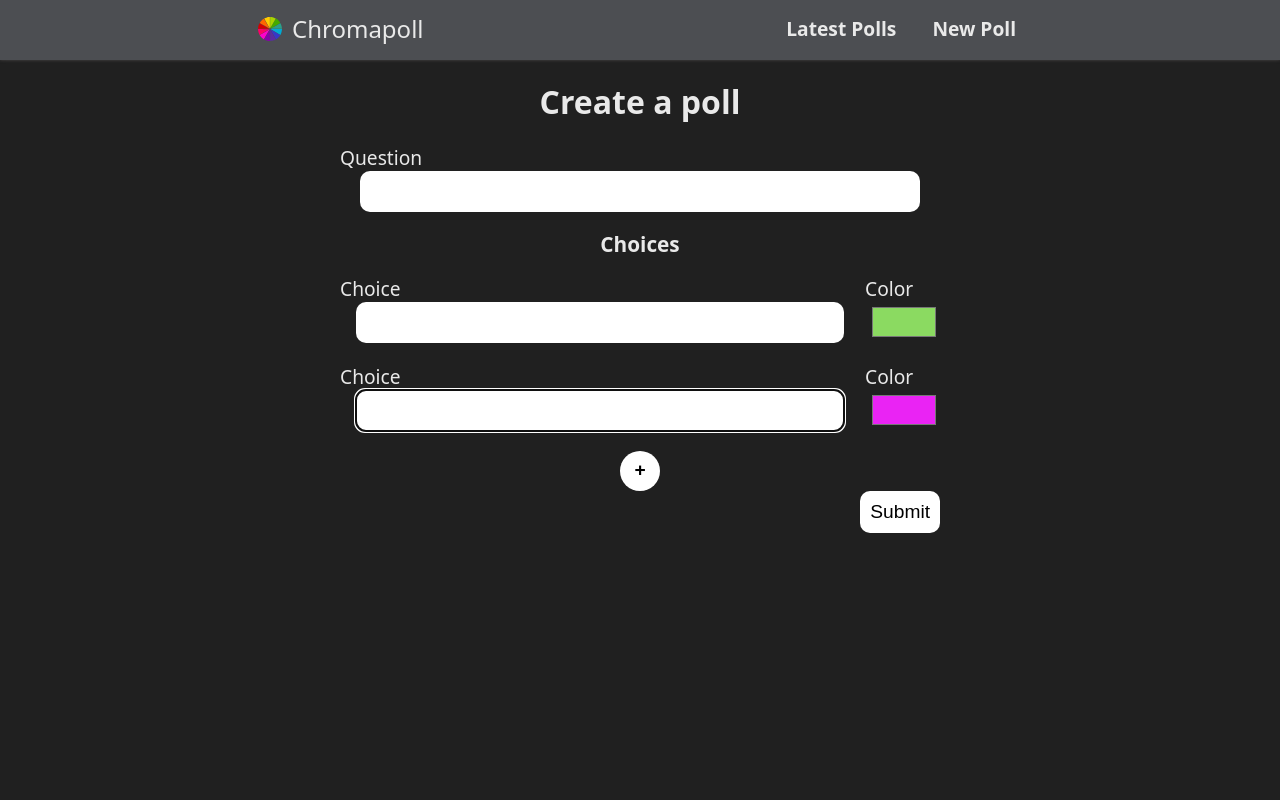
it: poll creation › does not work with missing choice name
In the field with id "choice0Name": (600, 323) [356,302,844,343], type "option a"
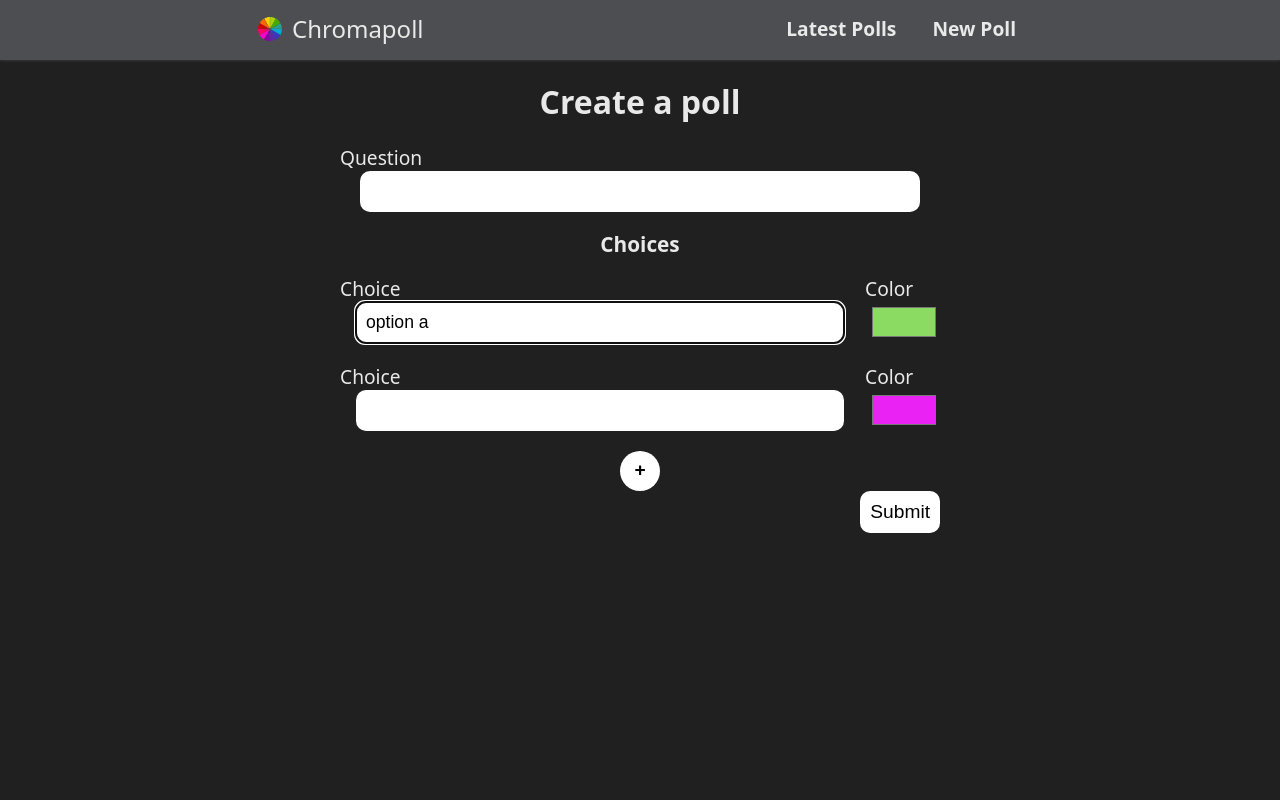
Click the button with id "submit-button": (900, 512) [860,491,940,533]
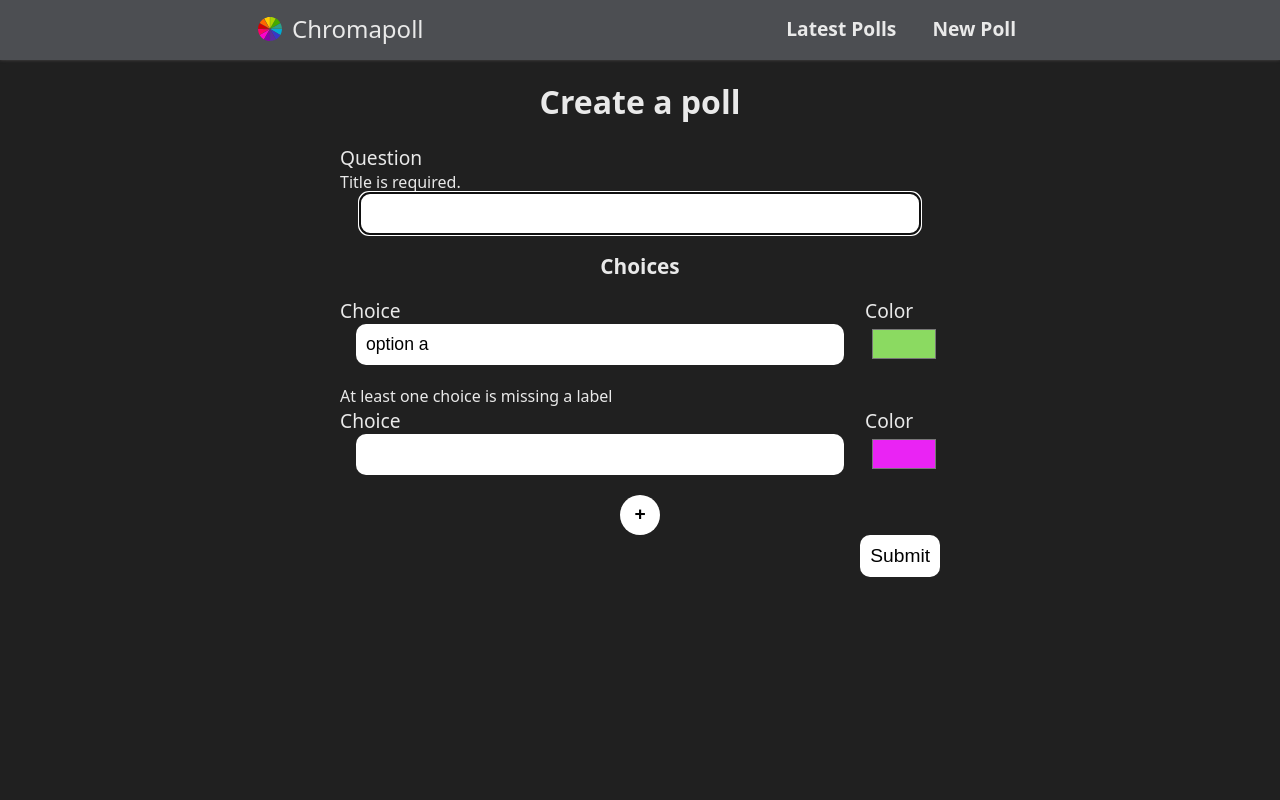
Expected: the text "At least one choice is missing a label" is shown, [340,385,613,407]
